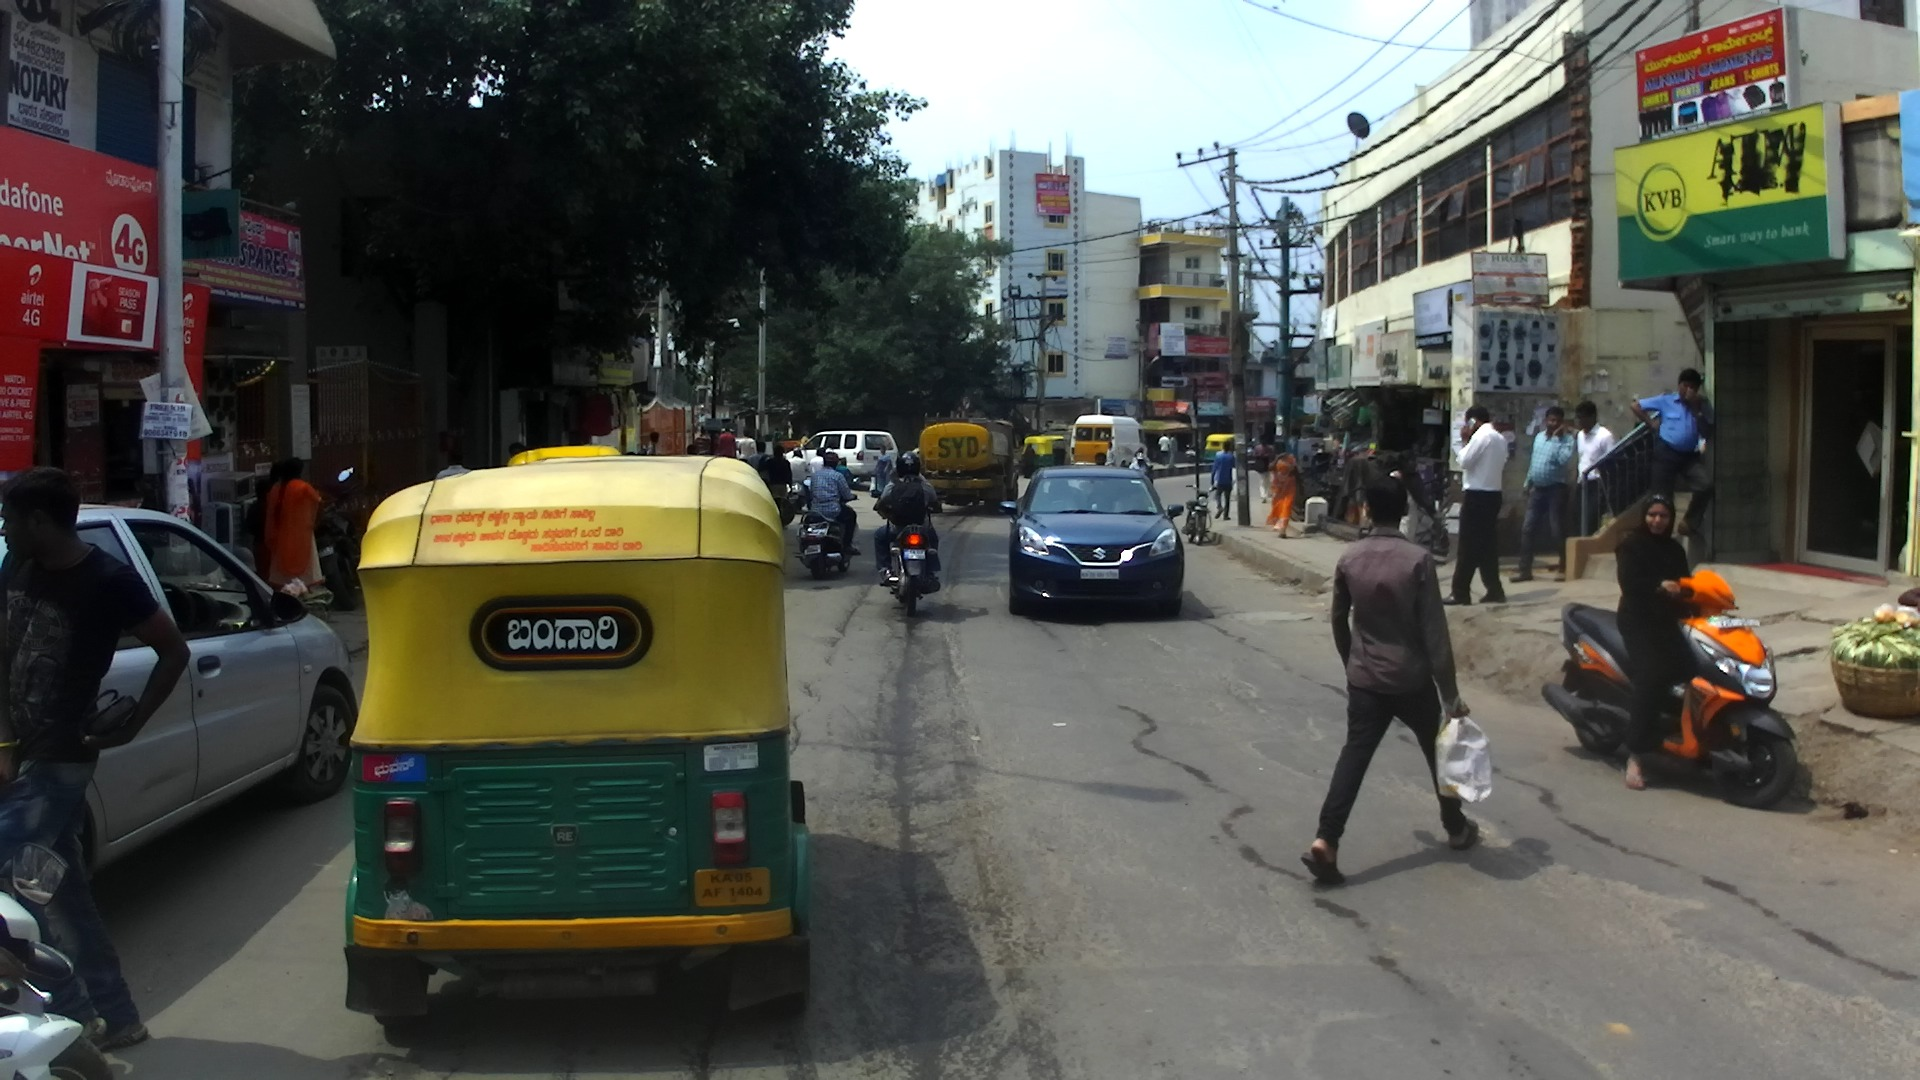autorickshaw: (342, 456, 817, 1023), (506, 445, 623, 463), (1023, 434, 1068, 473), (1203, 431, 1240, 462)
bus: (1069, 413, 1148, 479)
car: (2, 501, 358, 892), (997, 466, 1184, 619), (785, 429, 900, 487)
motorcycle: (1541, 571, 1798, 807), (1, 840, 114, 1078), (304, 467, 371, 611), (869, 491, 942, 616), (797, 491, 858, 580), (1184, 484, 1218, 545), (784, 481, 809, 516), (1244, 437, 1260, 461), (1186, 441, 1200, 465)
person: (2, 466, 192, 1052), (1300, 475, 1492, 888), (1440, 404, 1511, 606), (265, 459, 325, 605), (1388, 448, 1434, 554), (259, 459, 286, 594), (1266, 440, 1305, 533), (246, 477, 279, 588), (760, 444, 791, 527), (1253, 433, 1279, 505), (1212, 441, 1236, 520), (871, 444, 895, 501), (437, 445, 470, 482), (745, 439, 773, 477), (716, 426, 737, 459), (1285, 426, 1303, 462), (739, 428, 757, 463), (641, 429, 662, 457), (1019, 442, 1036, 478), (1157, 431, 1172, 464), (1897, 587, 1918, 612), (696, 426, 712, 454), (508, 440, 529, 460), (1104, 440, 1117, 471), (1169, 433, 1180, 465), (770, 428, 783, 448), (1133, 446, 1146, 466), (799, 432, 810, 452), (684, 444, 699, 454)
rider: (1612, 491, 1706, 790), (1629, 368, 1717, 540), (1510, 408, 1576, 580), (875, 450, 942, 587), (1563, 400, 1614, 553), (810, 452, 861, 555), (785, 446, 814, 511), (1130, 452, 1151, 485), (810, 447, 826, 478), (910, 443, 920, 460)
truck: (921, 411, 1019, 513)
vehicle fallback: (718, 418, 737, 439)
